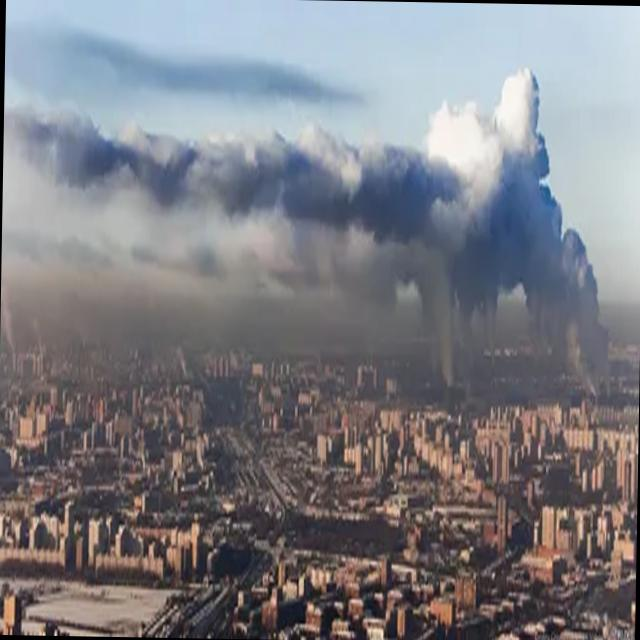Smoke: (222, 84, 615, 380)
